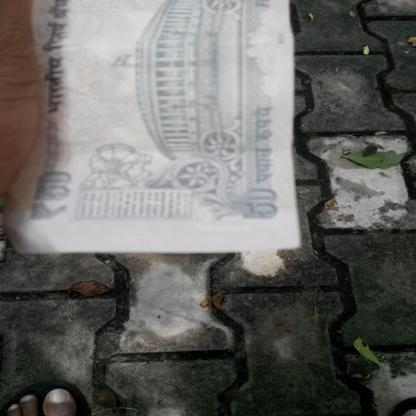Old50Back: (0, 0, 302, 251)
